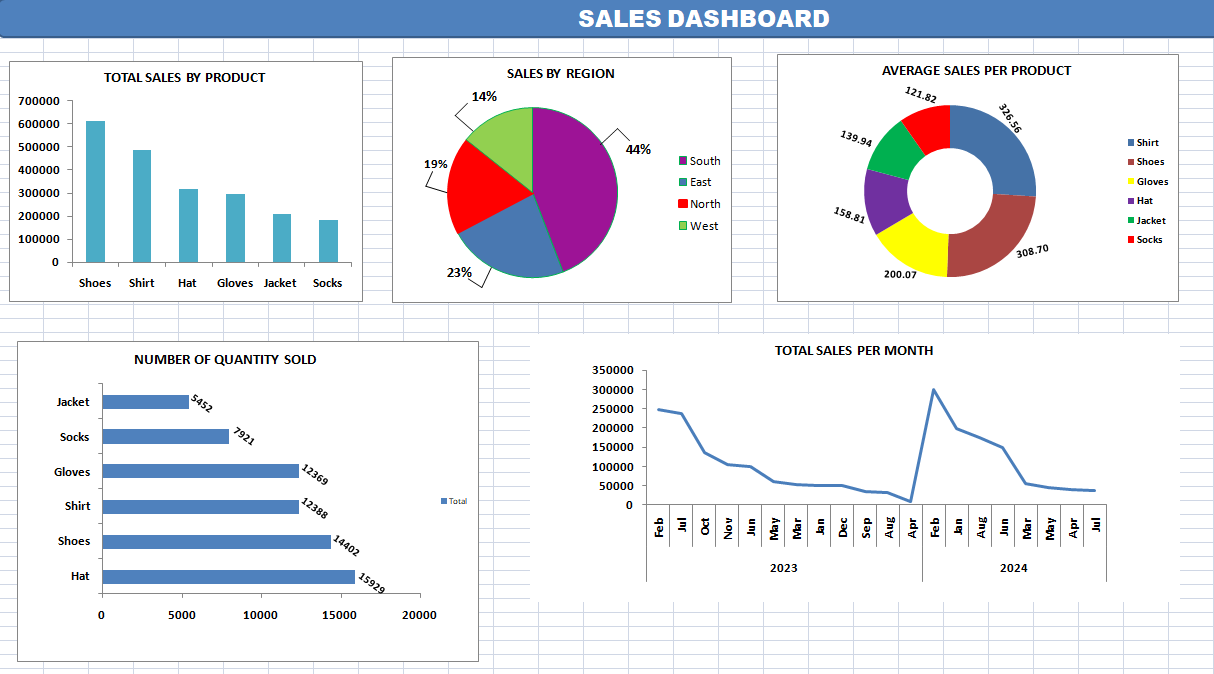

This screenshot's page, from the dashboard's own definition file:
{"tool":"powerbi","page":{"name":"Page 1","canvas":[1280,720],"ordinal":0},"visuals":[{"type":"textbox","box":[0,0,423.4,76.3],"z":0},{"type":"card","title":"TOTAL SALES","fields":{"Values":["Sum(SalesData.Total Sales)"]},"box":[0,194.4,334.1,121],"z":1000},{"type":"card","title":"Top-Selling Product","fields":{"Values":["SalesData.Top-Selling Product"]},"box":[337,194.4,207.4,121],"z":2000},{"type":"columnChart","fields":{"Category":["SalesData.Product"],"Y":["Sum(SalesData.Total Sales)"]},"box":[449.3,322.6,426.2,397.4],"z":3000},{"type":"tableEx","title":"Regional Sales datails","fields":{"Values":["SalesData.Region","Sum(SalesData.Total Sales)","SalesData.Percentage"]},"box":[551.5,82.1,316.8,233.3],"z":4000},{"type":"pieChart","fields":{"Y":["SalesData.Percentage"],"Series":["SalesData.Region"]},"box":[875.3,90.7,404.6,303.8],"z":5000},{"type":"clusteredBarChart","fields":{"Category":["SalesData.OrderDate.Variation.Date Hierarchy.Month"],"Y":["Sum(SalesData.Total Sales)"]},"box":[0,322.6,440.6,397.4],"z":6000},{"type":"slicer","fields":{"Values":["SalesData.OrderDate.Variation.Date Hierarchy.Year"]},"box":[645.1,0,174.2,73.4],"z":7000},{"type":"slicer","fields":{"Values":["SalesData.Product"]},"box":[842.4,0,437.8,82.1],"z":8000},{"type":"donutChart","fields":{"Category":["SalesData.Product"],"Y":["Sum(SalesData.Quantity)"]},"box":[879.8,398.9,400.3,321.1],"z":9000}]}

Visuals, with their boxes in screenshot pixels (x1, y1, x2, y2), scaled from the page's 1280x720 canvas onto the 1214x674 screenshot:
textbox: [left=0, top=0, right=402, bottom=71]
"TOTAL SALES" card: [left=0, top=182, right=317, bottom=295]
"Top-Selling Product" card: [left=320, top=182, right=516, bottom=295]
columnChart - SalesData.Product x Sum(SalesData.Total Sales): [left=426, top=302, right=830, bottom=673]
"Regional Sales datails" tableEx: [left=523, top=77, right=824, bottom=295]
pieChart - SalesData.Percentage x SalesData.Region: [left=830, top=85, right=1213, bottom=369]
clusteredBarChart - SalesData.OrderDate.Variation.Date Hierarchy.Month x Sum(SalesData.Total Sales): [left=0, top=302, right=418, bottom=673]
slicer - SalesData.OrderDate.Variation.Date Hierarchy.Year: [left=612, top=0, right=777, bottom=69]
slicer - SalesData.Product: [left=799, top=0, right=1213, bottom=77]
donutChart - SalesData.Product x Sum(SalesData.Quantity): [left=834, top=373, right=1213, bottom=673]
